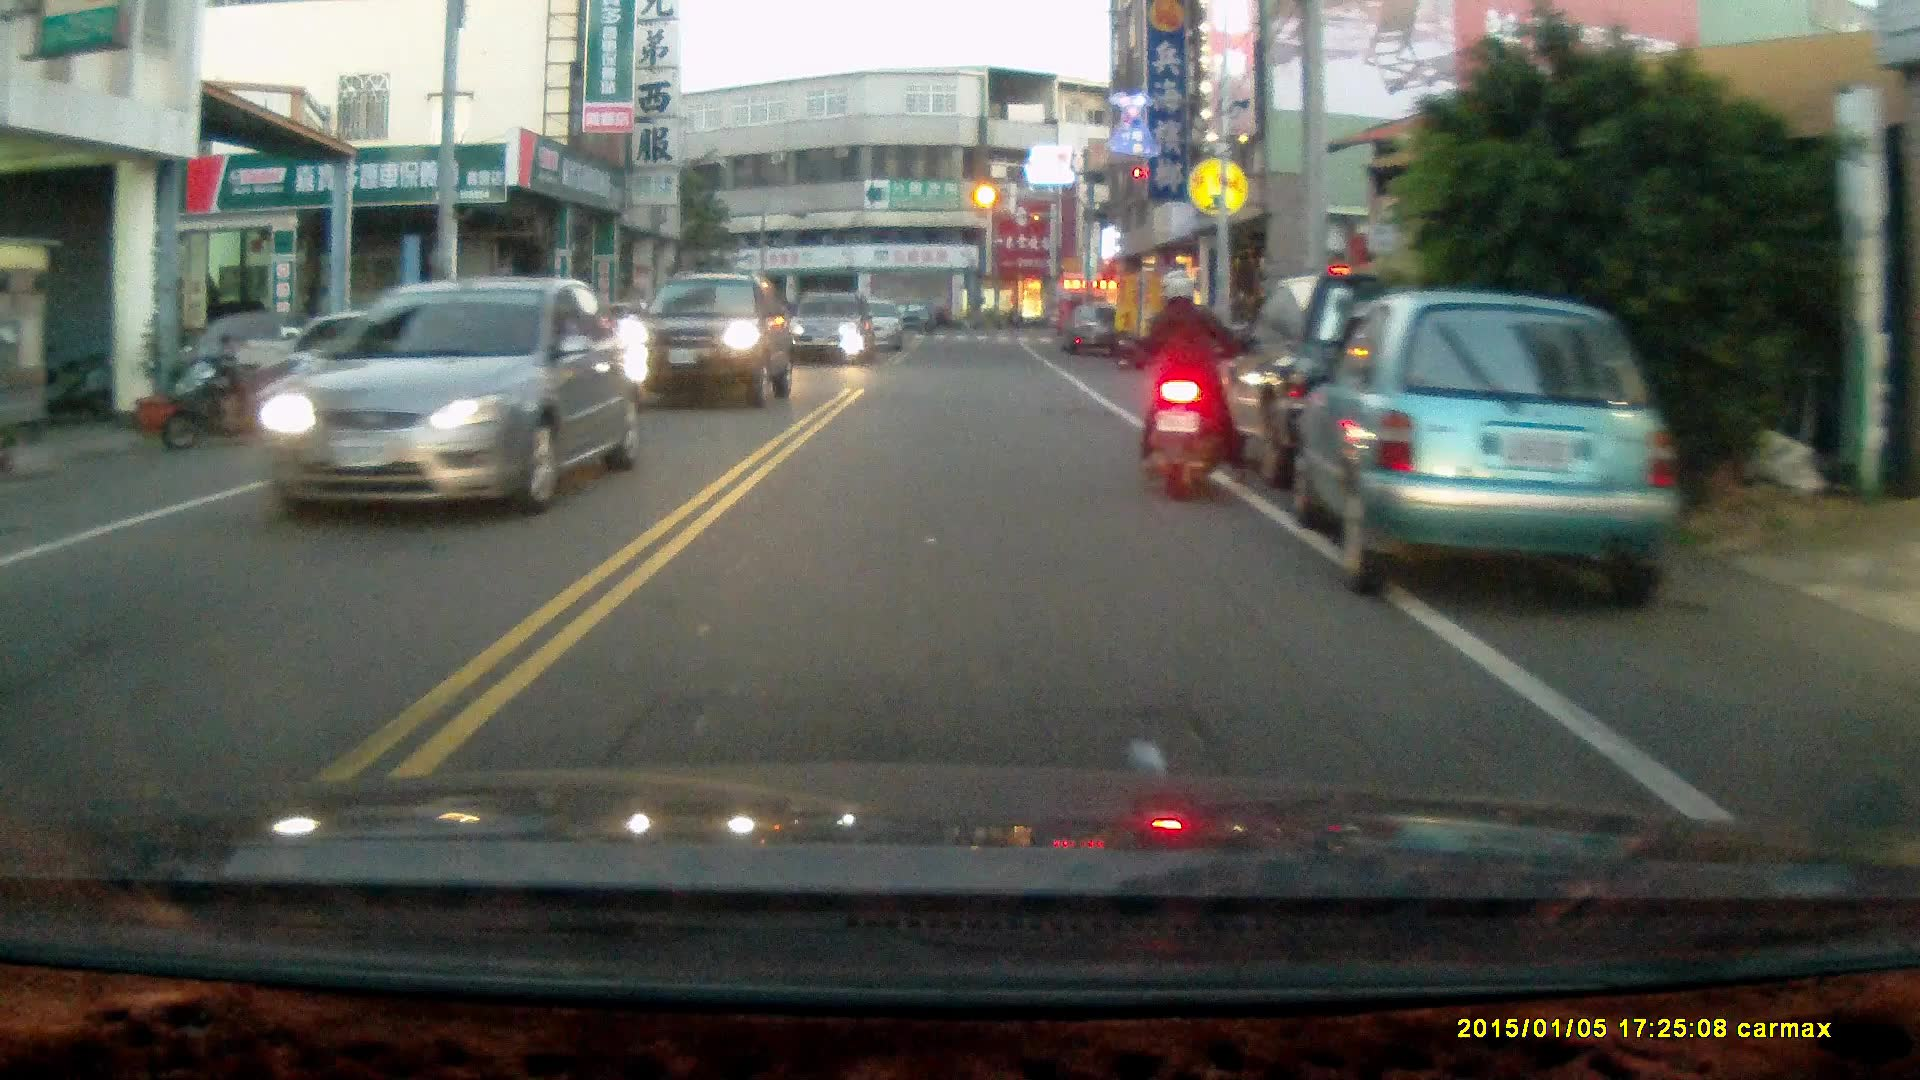rider: (1137, 266, 1245, 499)
vehicle: (1292, 291, 1681, 615), (261, 276, 644, 522), (1189, 269, 1520, 490), (257, 309, 470, 424), (625, 271, 797, 405), (786, 294, 879, 364), (1059, 300, 1128, 357)
